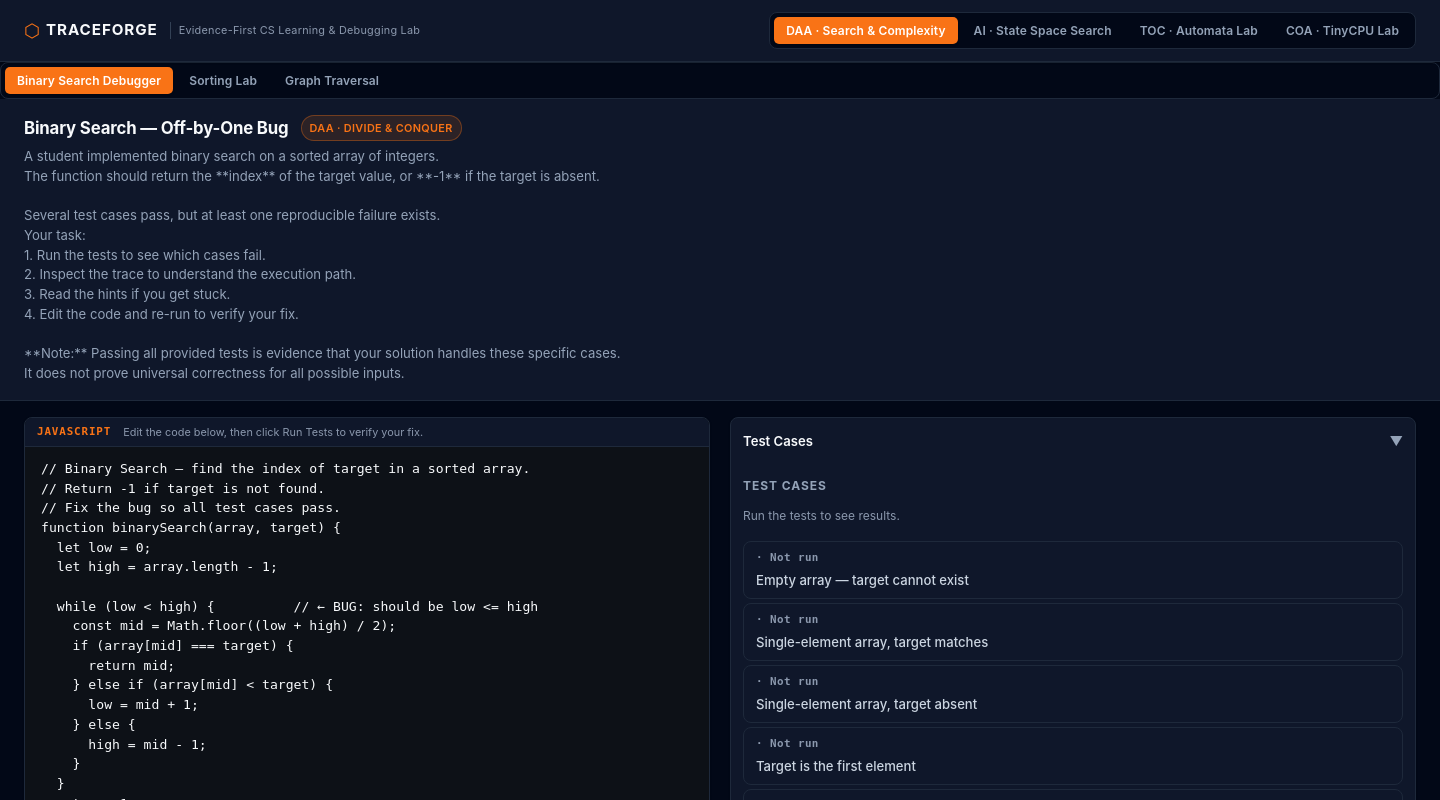
TOC CFG navigation › exposes CFG parser without removing DFA and NFA labs
Click the tab "TOC · Automata Lab".
click(1199, 30)  # box [1128,17,1270,44]
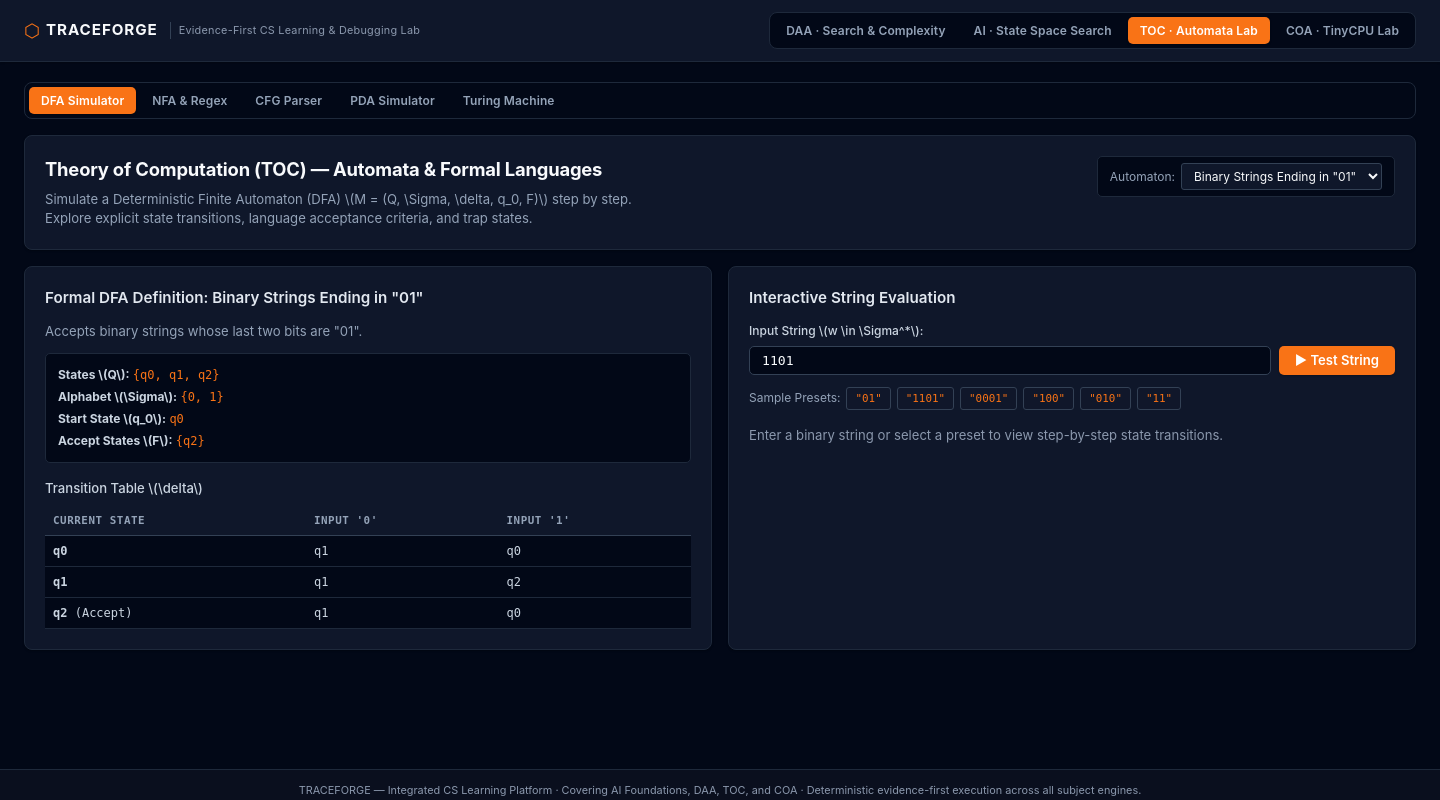
Click the tab "CFG Parser".
click(289, 100)  # box [243,87,334,114]
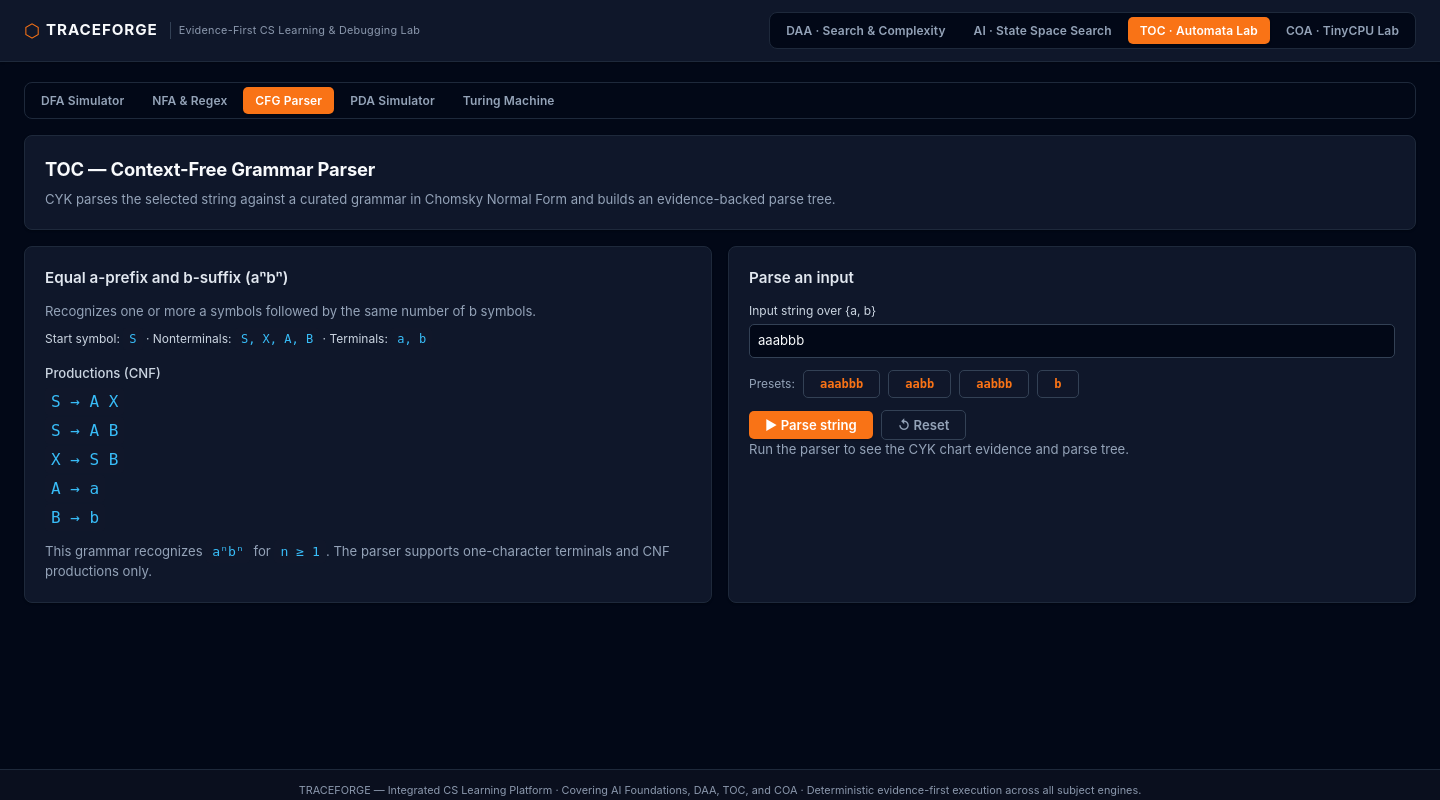
Now the heading "TOC — Context-Free Grammar Parser" is shown, box [45,158,375,180]
Click the tab "NFA & Regex".
click(190, 100)  # box [140,87,239,114]
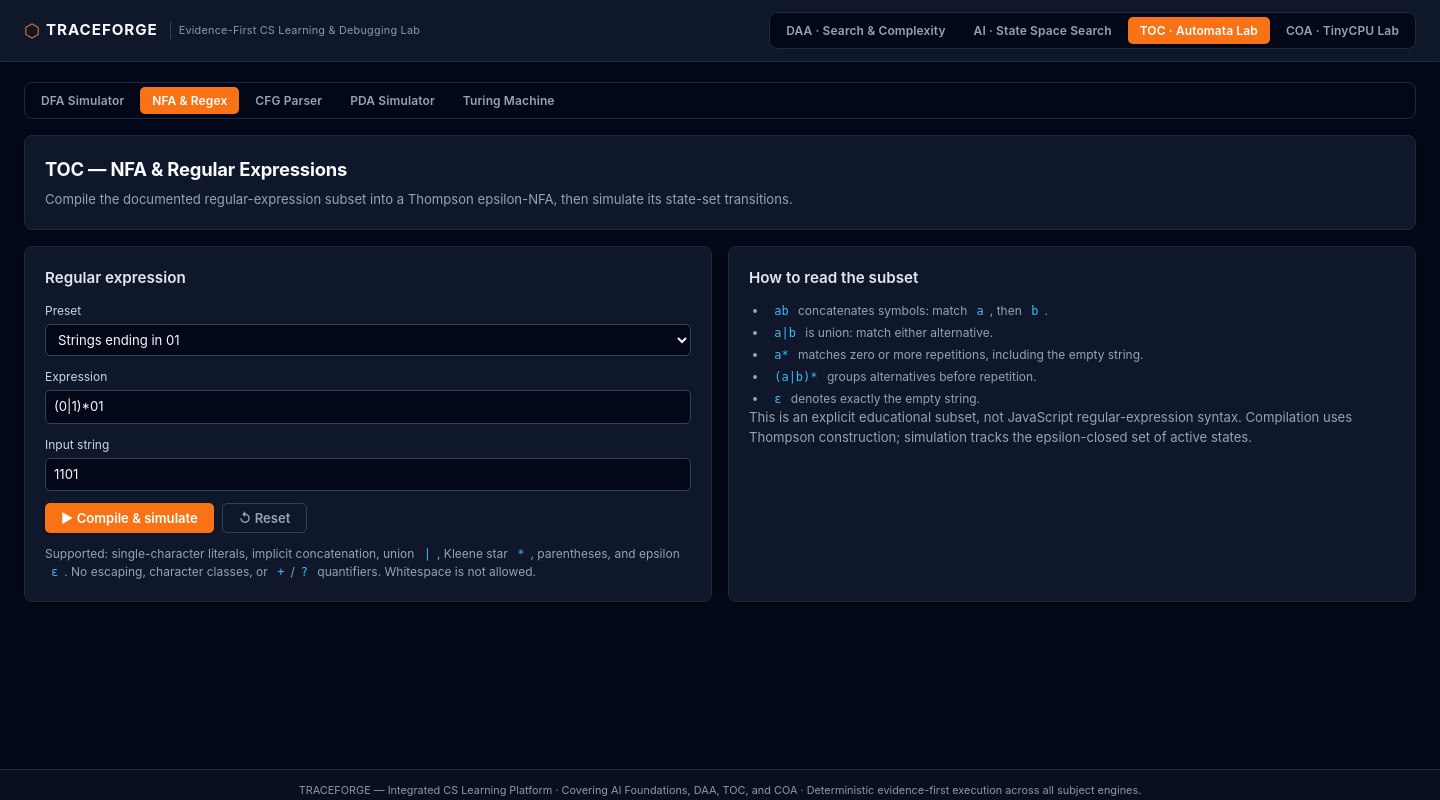
Now the heading "TOC — NFA & Regular Expressions" is shown, box [45,158,347,180]
Click the tab "DFA Simulator".
click(83, 100)  # box [29,87,136,114]
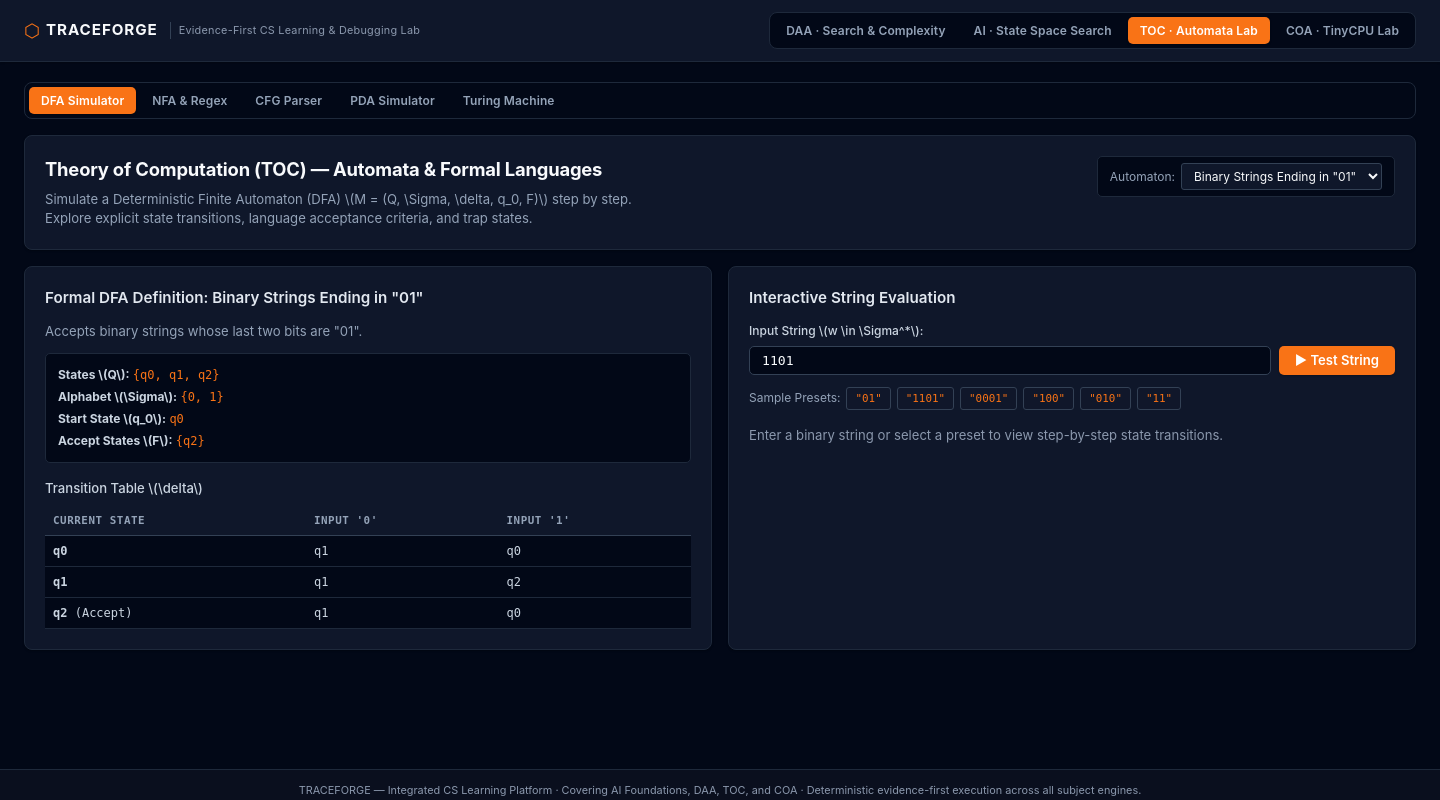
Now the dropdown labelled "Automaton:" is shown, box [1181,163,1382,190]
